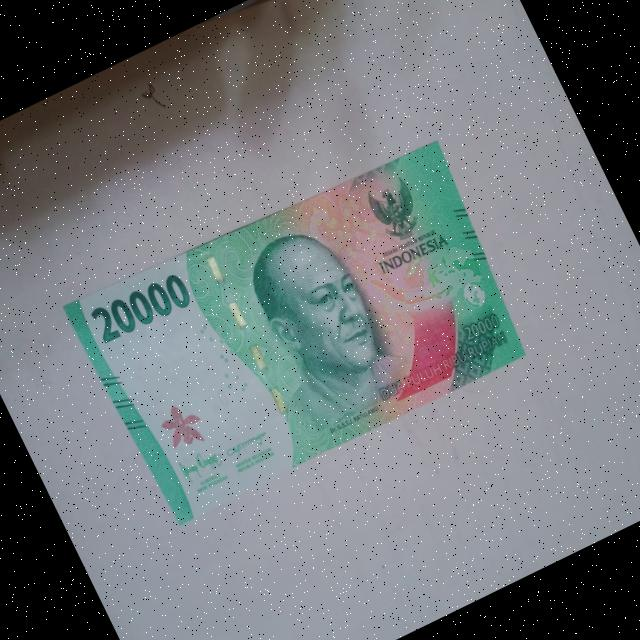20K: (49, 111, 550, 541)
